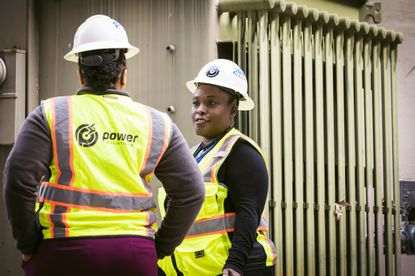Hard Hat: (64, 14, 138, 93), (183, 60, 256, 138)
Person: (6, 18, 205, 272), (177, 60, 276, 276)
Vest: (37, 52, 171, 238), (162, 84, 275, 272)
